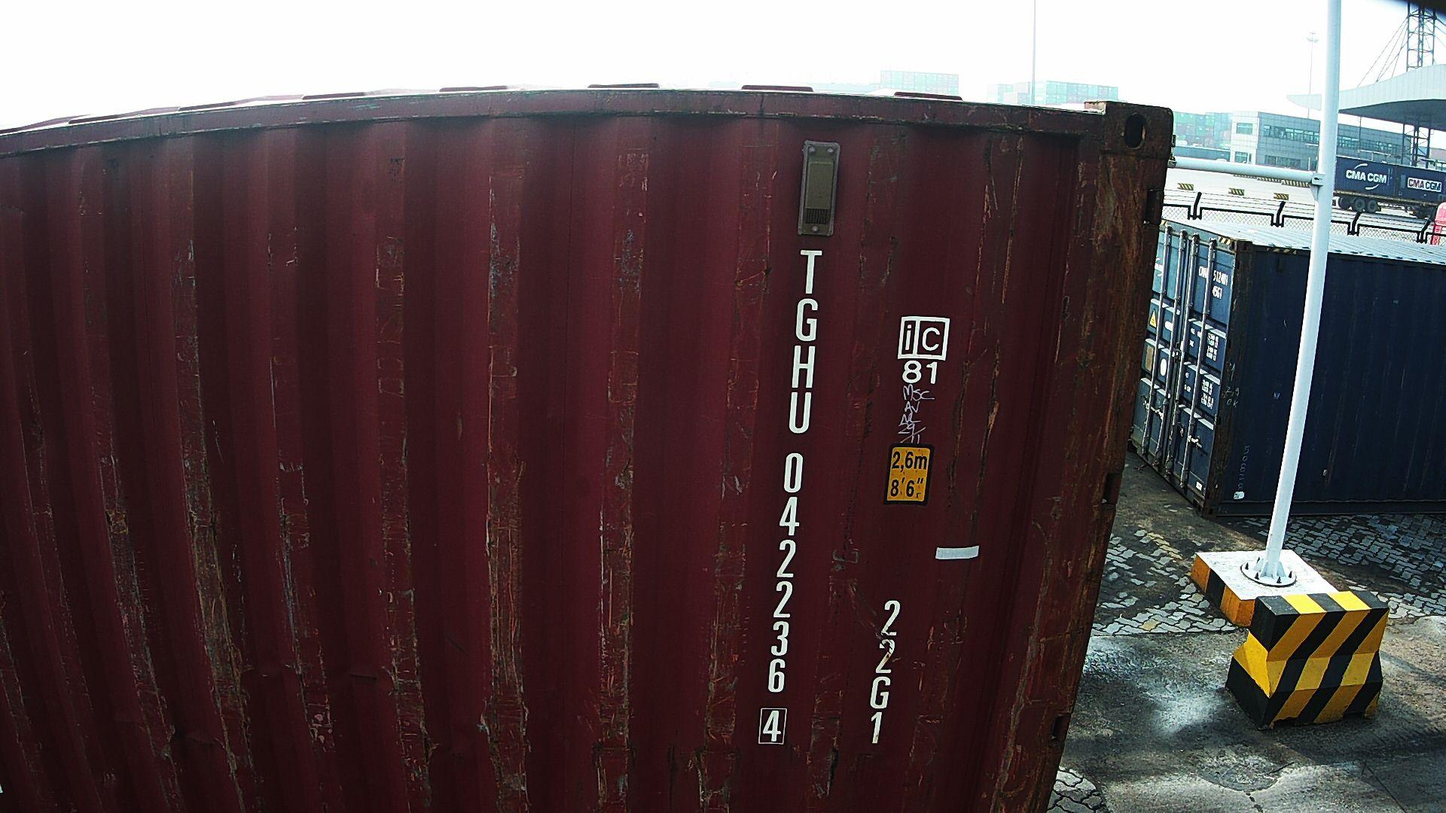container-numbers: (756, 243, 827, 754), (864, 592, 904, 751)
